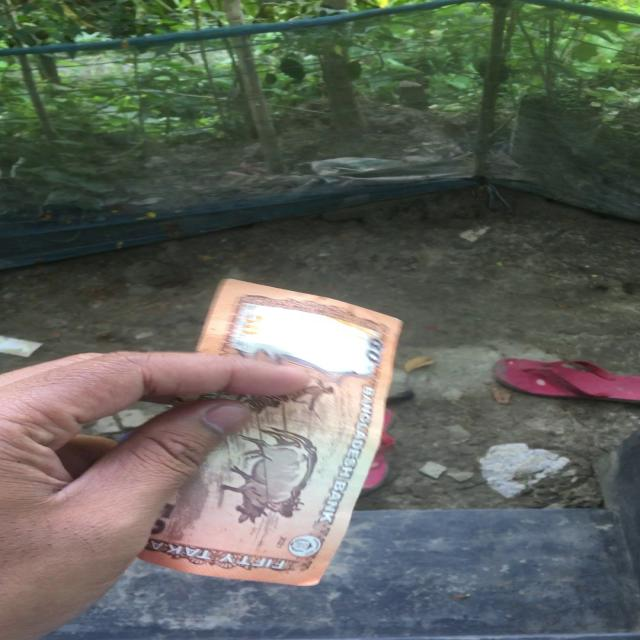Taka: (185, 279, 396, 573)
